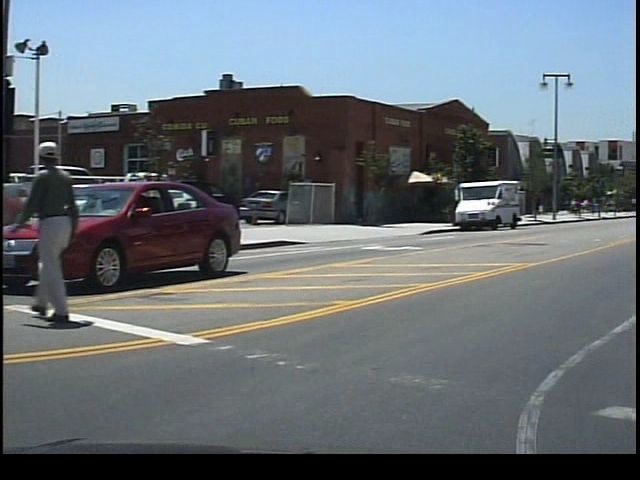person: (34, 137, 105, 326)
